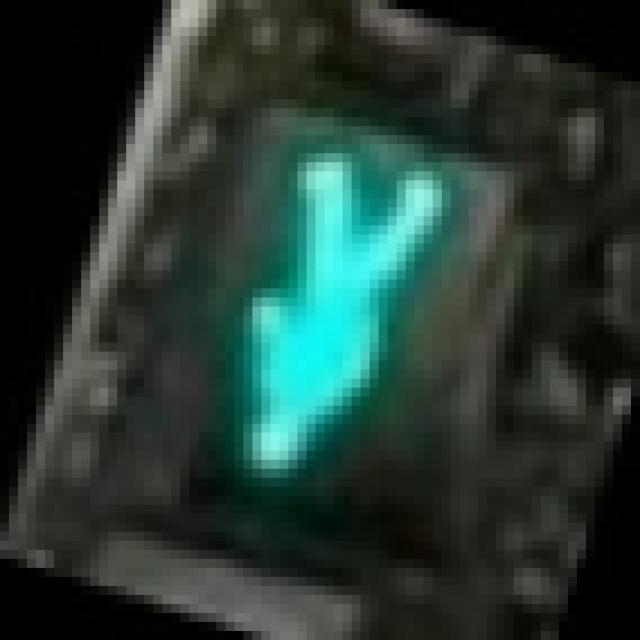green_light: (100, 54, 504, 550)
